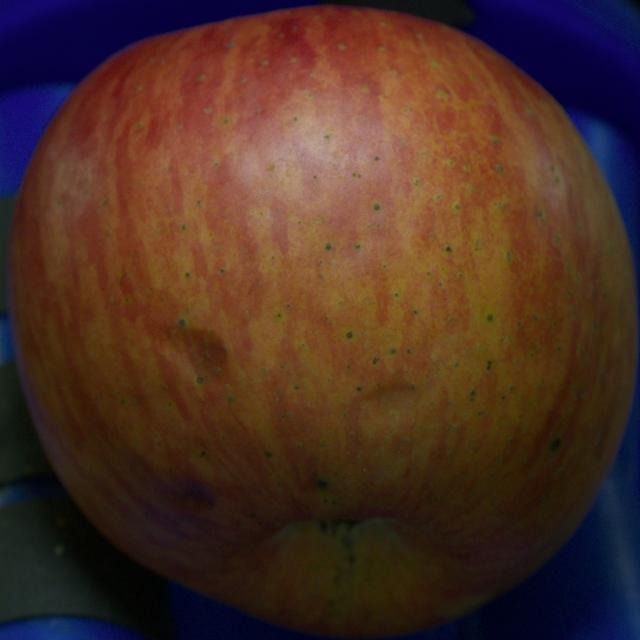apple: (8, 8, 638, 638)
bruise: (151, 325, 228, 390), (344, 382, 424, 429), (159, 479, 218, 516)
